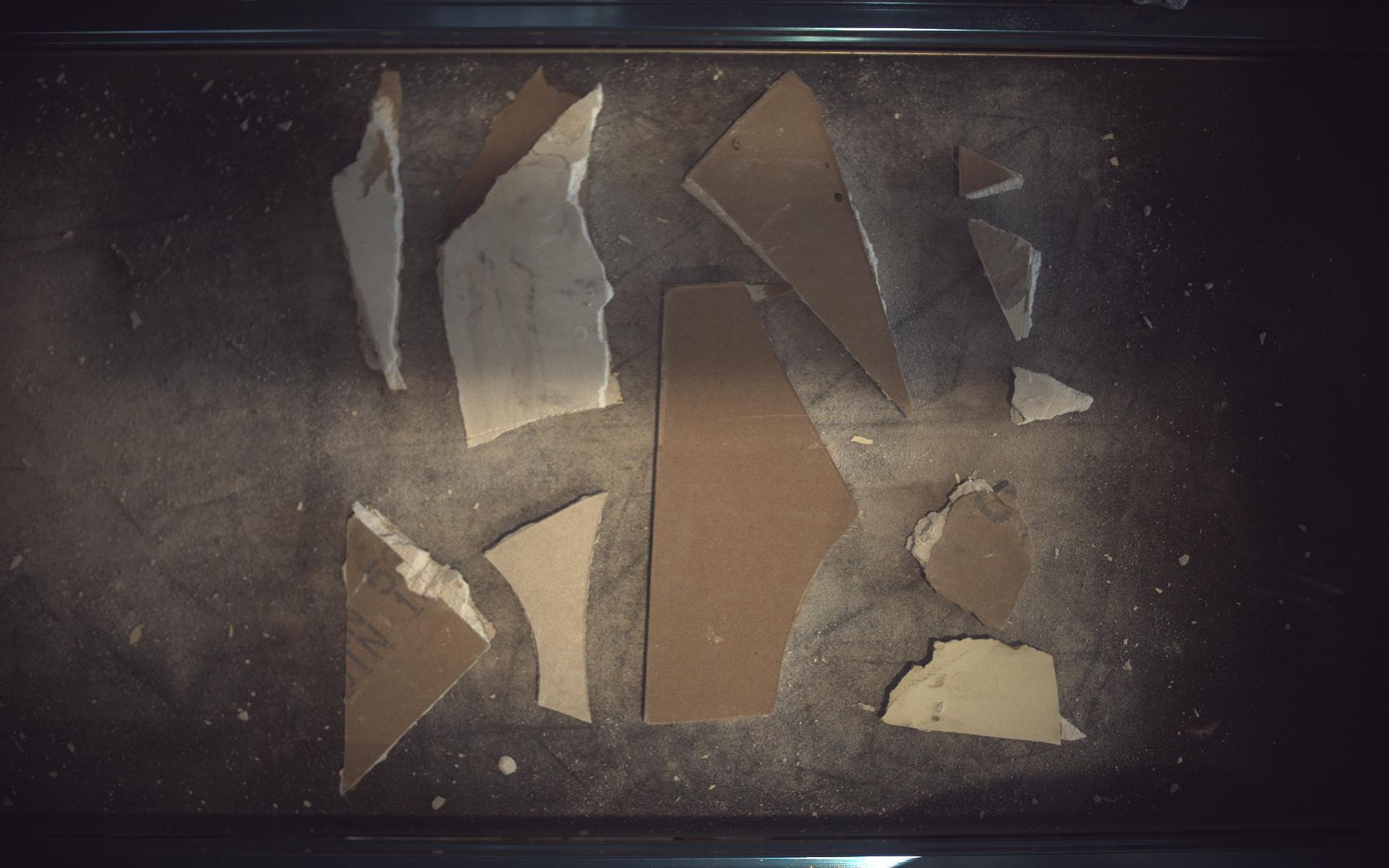gypsum_board: (645, 281, 859, 725), (684, 70, 914, 416), (438, 67, 623, 446), (340, 502, 496, 796), (485, 493, 608, 723), (331, 69, 406, 391), (883, 639, 1086, 746), (908, 475, 1036, 631), (970, 218, 1043, 340), (1012, 367, 1096, 425), (957, 145, 1025, 198)
